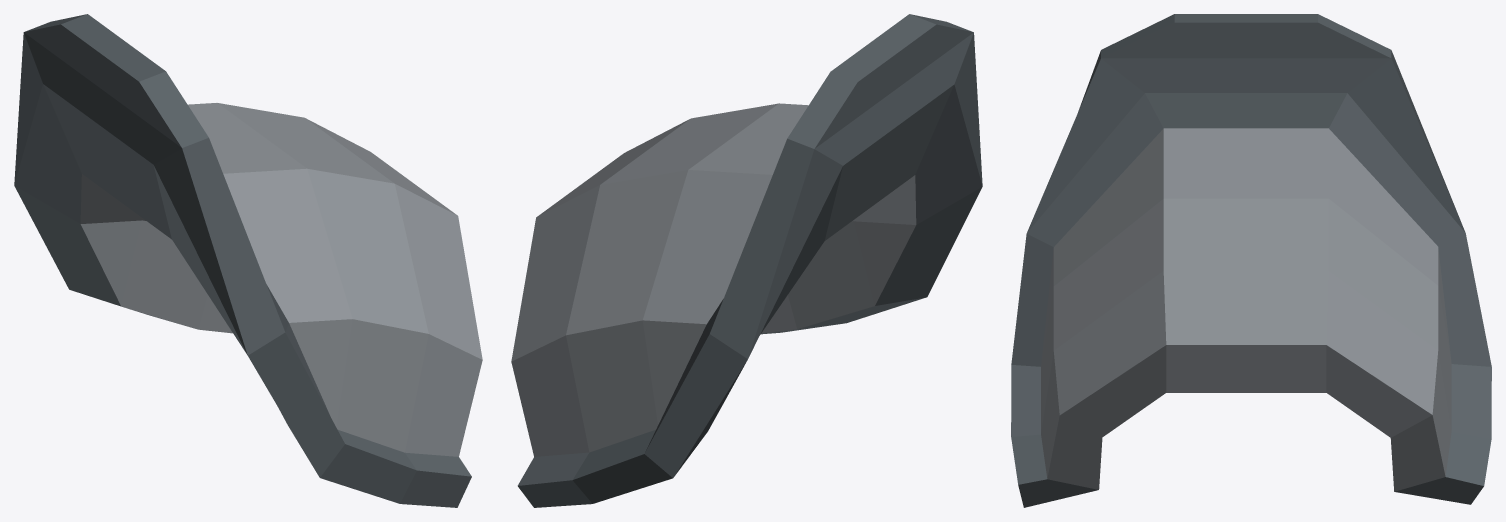
The model's file is Chr_ShoulderAttachLeft_12_Static.fbx.
The picture shows the model from 3 angles, left to right: view 1: azimuth 30°, elevation 25°; view 2: azimuth 150°, elevation 25°; view 3: azimuth 270°, elevation 25°; orthographic projection. The views are drawn at different scales.
Visible parts, largest first — view 1: Chr_ShoulderAttachLeft_12_Static; view 2: Chr_ShoulderAttachLeft_12_Static; view 3: Chr_ShoulderAttachLeft_12_Static.
Part boxes in pixels (x1,y1,x2,y2): Chr_ShoulderAttachLeft_12_Static: (14,14,482,507); Chr_ShoulderAttachLeft_12_Static: (511,14,982,507); Chr_ShoulderAttachLeft_12_Static: (1011,14,1491,507).
Bounding box in the file's own units: 0.2025 × 0.2616 × 0.2909.
